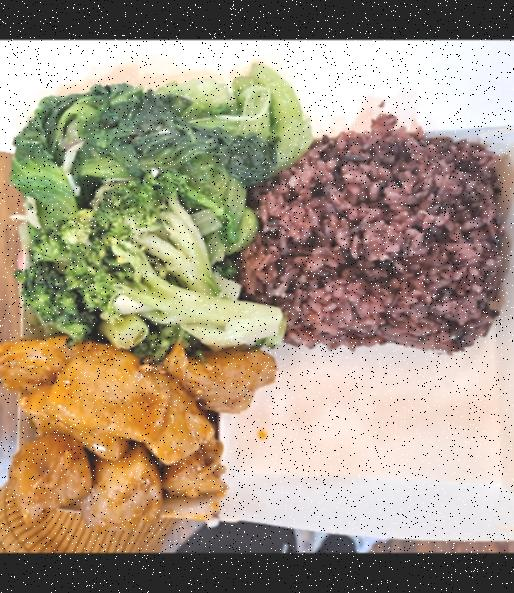box: (0, 84, 514, 553)
purple rice: (222, 110, 514, 360)
side dish: (20, 180, 281, 354), (6, 75, 300, 221)
spicy chicken: (0, 324, 266, 529)
